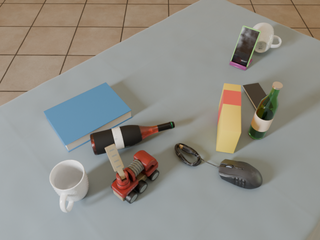book: (44, 82, 132, 152)
bottle: (90, 122, 175, 155), (248, 82, 283, 139)
box: (216, 83, 241, 153)
cup: (50, 160, 89, 212), (253, 23, 281, 53)
mouse: (216, 159, 262, 189)
phone: (231, 26, 261, 67), (242, 83, 266, 110)
toy_car: (105, 144, 159, 203)
